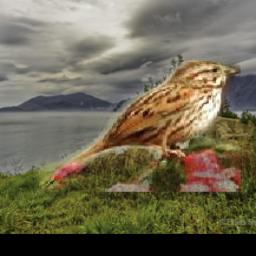Sparrow: (33, 55, 241, 192)
